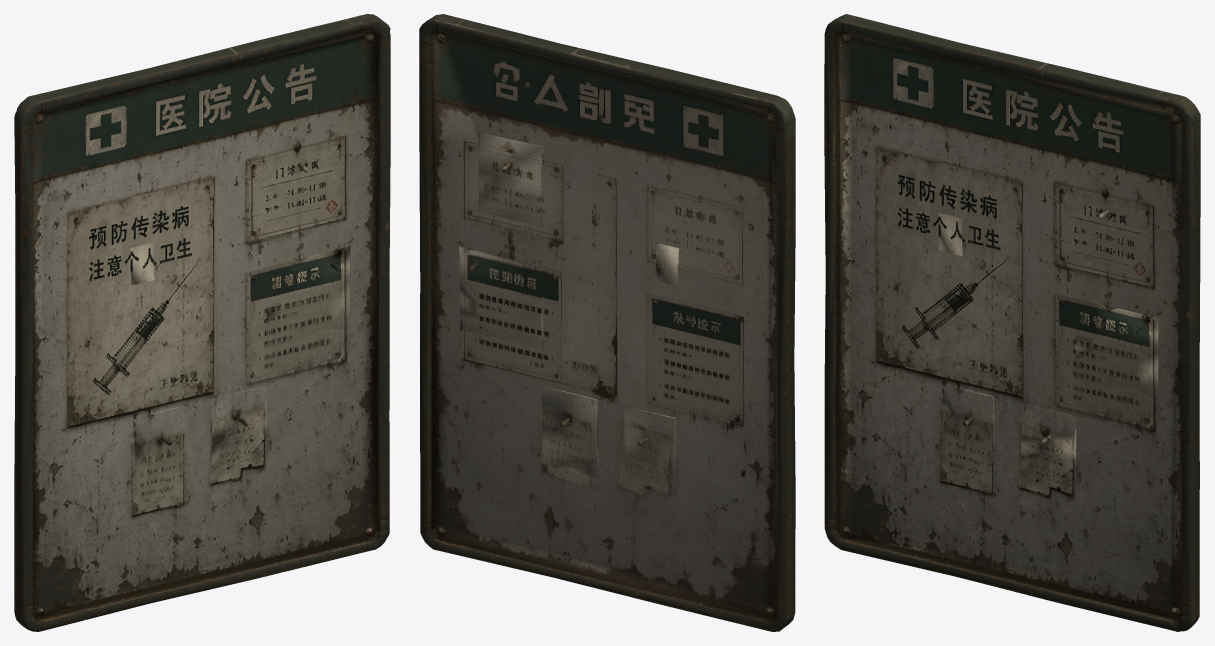
The model's file is sign.fbx.
The picture shows the model from 3 angles, left to right: view 1: azimuth 30°, elevation 25°; view 2: azimuth 150°, elevation 25°; view 3: azimuth 330°, elevation 25°; orthographic projection.
Visible parts, largest first — view 1: mesh_node; view 2: mesh_node; view 3: mesh_node.
Part boxes in pixels (x1,y1,x2,y2): mesh_node: (14, 14, 390, 631); mesh_node: (419, 14, 795, 631); mesh_node: (824, 14, 1200, 631).
Size of the model in its own units: 73.05 by 100 by 6.13.
1 material, 1 textured.
